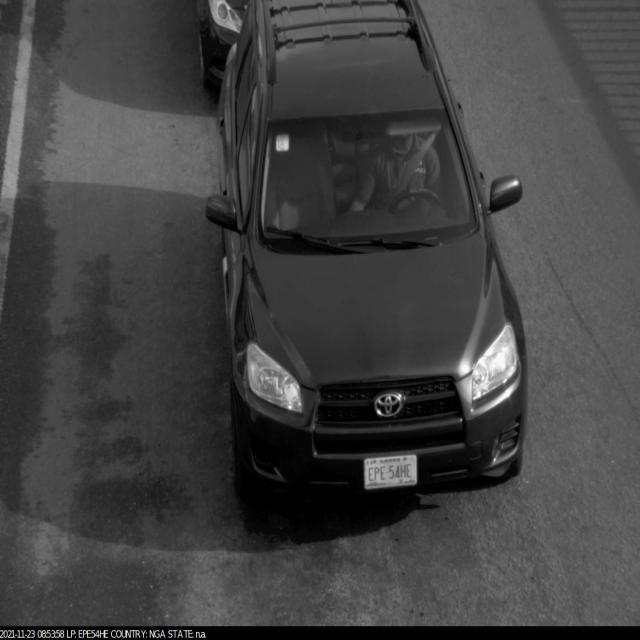windshield: (240, 97, 490, 257)
